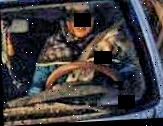seatbelt: (66, 26, 104, 83)
